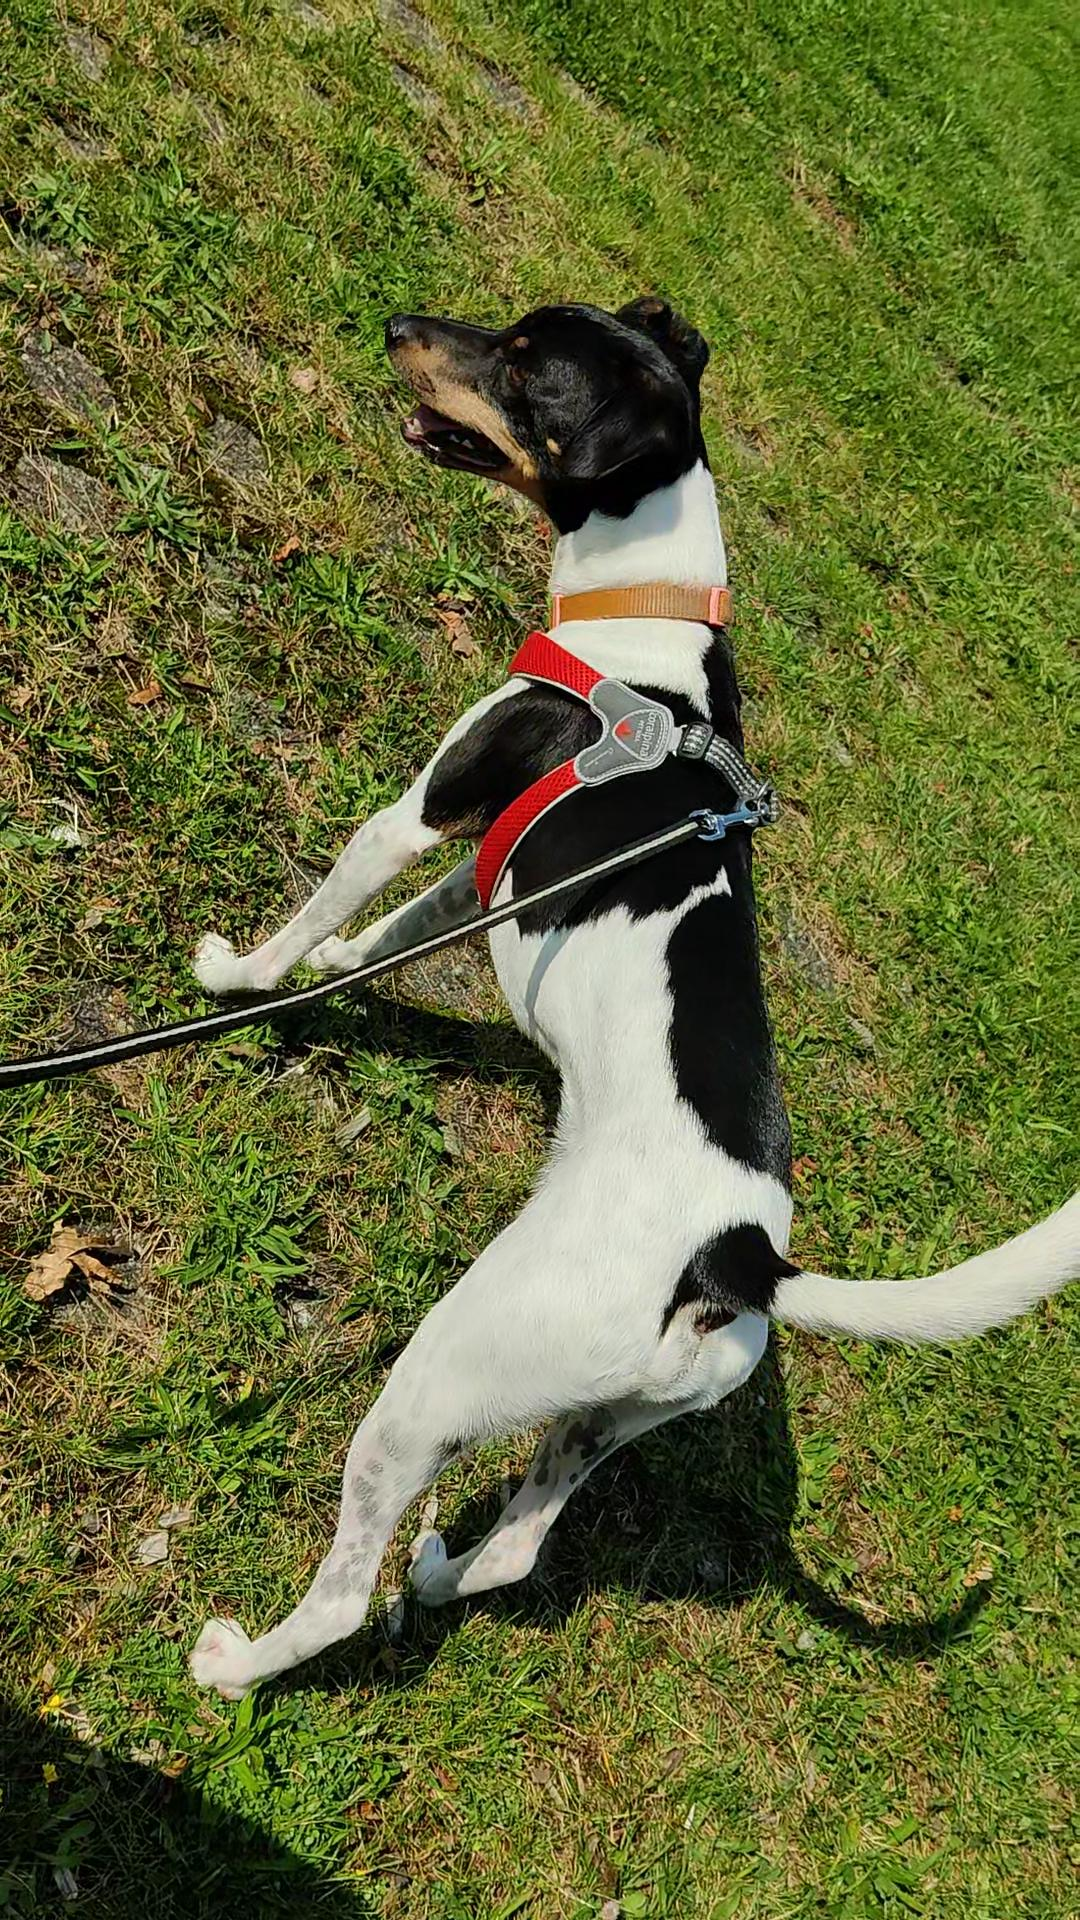Dog: (173, 276, 1079, 1698)
